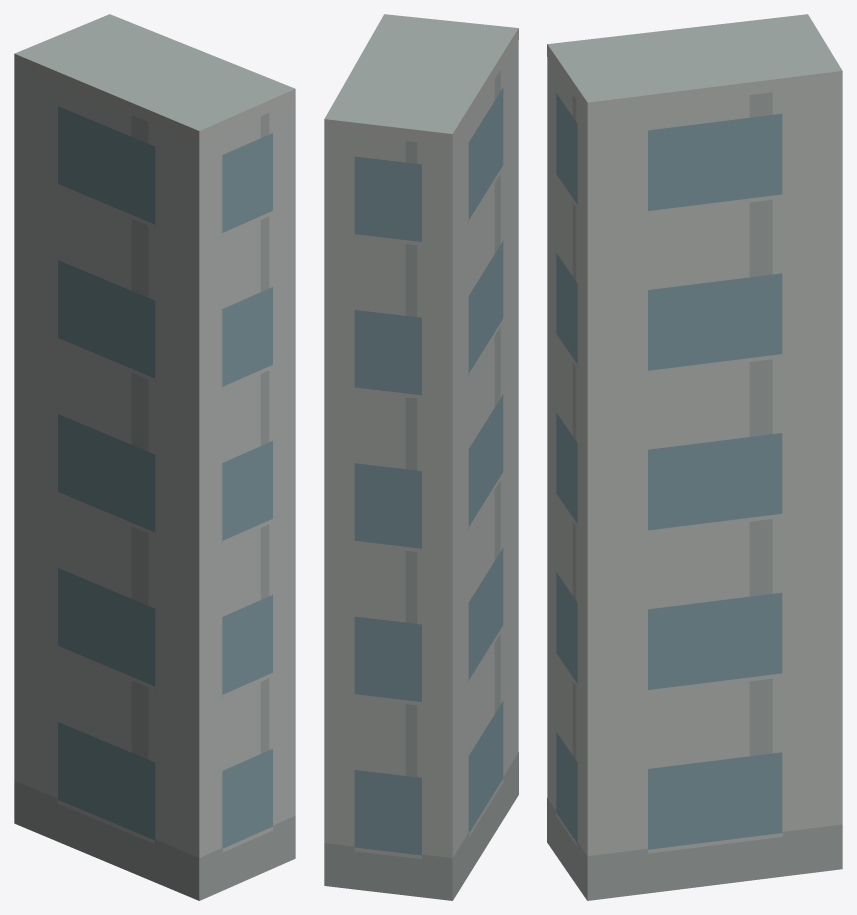
File: survey-upis-32548416.glb
3 views of the same model, side by side, from view 1: azimuth 30°, elevation 25°; view 2: azimuth 150°, elevation 25°; view 3: azimuth 270°, elevation 25° (orthographic). The views are drawn at different scales.
Parts seen in each view (by area): view 1: survey-upis-32548416.tmp; view 2: survey-upis-32548416.tmp; view 3: survey-upis-32548416.tmp.
Boxes of the visible parts, x1,y1,x2,y2 form: survey-upis-32548416.tmp: (14, 14, 295, 900); survey-upis-32548416.tmp: (324, 14, 518, 900); survey-upis-32548416.tmp: (547, 14, 842, 900).
Bounding box in the file's own units: 3.64 × 15.25 × 5.12.
